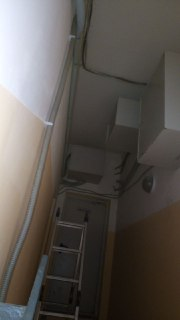shta-7m: (105, 96, 139, 155)
